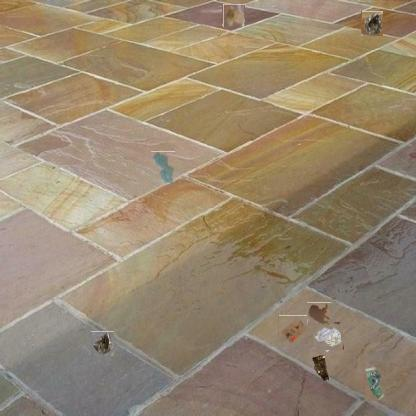dirty: (278, 315, 308, 344), (366, 365, 388, 401), (314, 324, 342, 352), (310, 352, 332, 384), (90, 332, 115, 356), (361, 11, 383, 36), (222, 4, 245, 27)
liquid: (151, 151, 175, 184), (308, 302, 331, 326)
